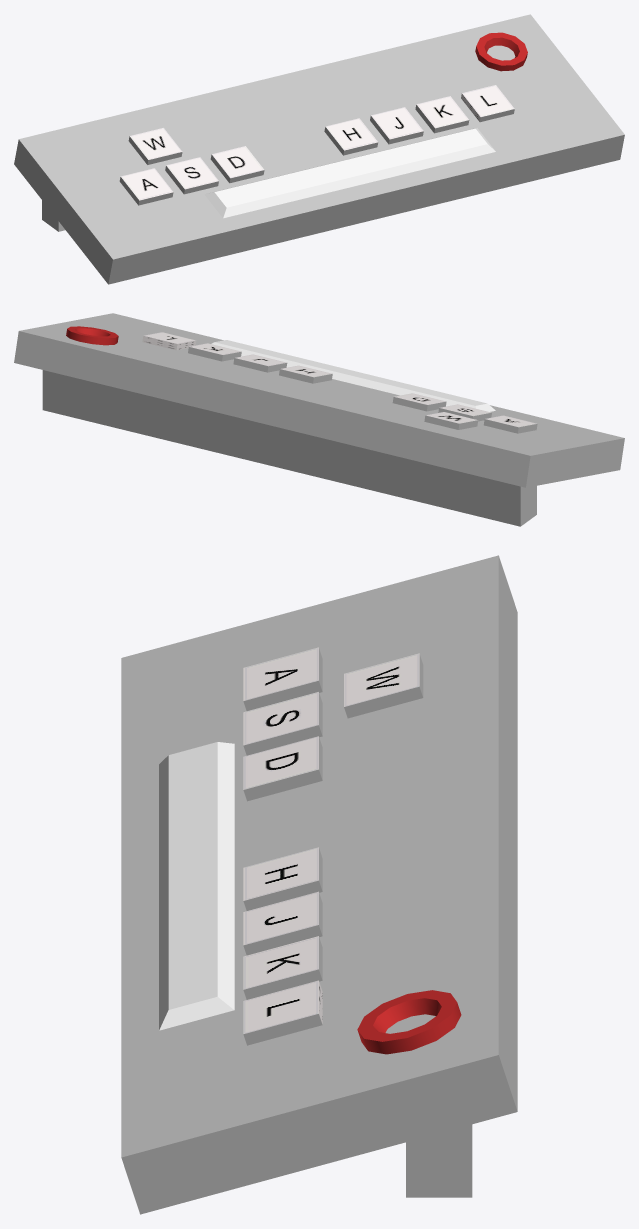
Rendered from kboard.fbx.
The picture shows the model from 3 angles, top to bottom: view 1: azimuth 30°, elevation 25°; view 2: azimuth 150°, elevation 25°; view 3: azimuth 270°, elevation 25°; orthographic projection. The views are drawn at different scales.
Parts seen in each view (by area): view 1: KeyBoardNew; view 2: KeyBoardNew; view 3: KeyBoardNew.
Boxes of the visible parts, <box> form: KeyBoardNew: <box>14,14,624,284</box>; KeyBoardNew: <box>14,313,624,526</box>; KeyBoardNew: <box>121,555,517,1214</box>.
Bounding box in the file's own units: 45 × 6.81 × 15.09.
5 materials, 1 textured.
